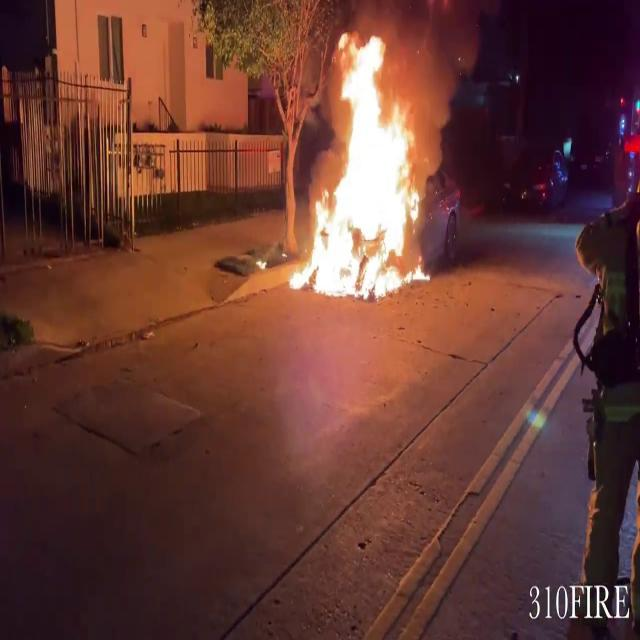Fire: (294, 29, 430, 298)
